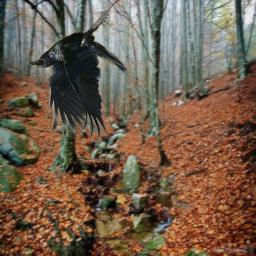Crow: (27, 11, 127, 141)
